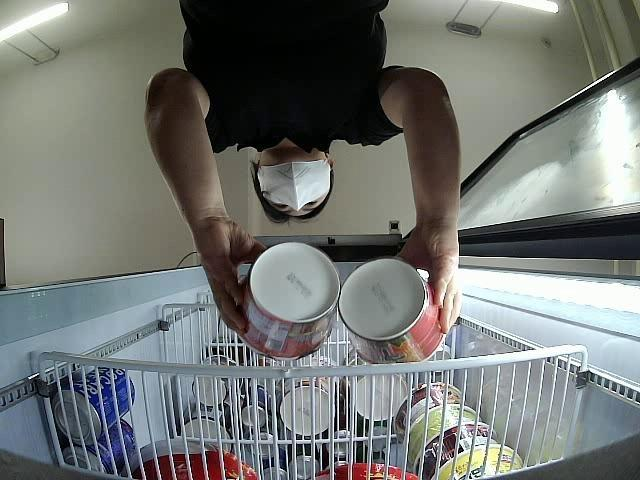01_ShinRamen_L: (236, 242, 340, 362), (339, 257, 444, 364)
